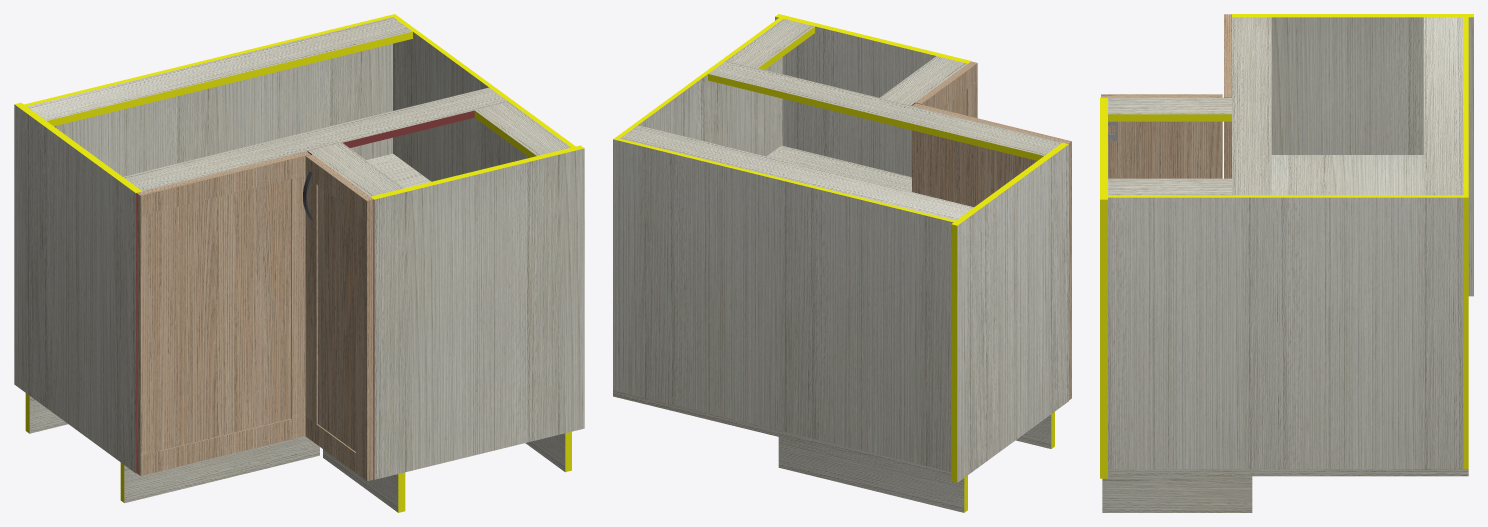
The model's file is ESQUINERO.obj.
The picture shows the model from 3 angles, left to right: view 1: azimuth 30°, elevation 25°; view 2: azimuth 150°, elevation 25°; view 3: azimuth 270°, elevation 25°; orthographic projection. The views are drawn at different scales.
Visible parts, largest first — view 1: Mesh1 LATERAL_DER_2_1 PanelZX_8_1 Estructura_16_1 ESQUINERO_1_1 , Mesh2 LATERAL_IZQ_2_1 PanelZY_18_1 Estructura_16_1 ESQUINERO_1_1, Mesh27 BBas1_281_1 TAP_CCircular_57_1 PanelZX_81_1 MPCD_BCajon_3, Mesh4 RESPALDO_IZQ_2_1 fondo Estructura_16_1 ESQUINERO_1_1 Model, Mesh43 BBas1_286_1 TAP_CCircular_58_1 PanelZX_7_1 MPCD_BCajon_34, Mesh3 RESPALDO_DER_2_1 fondo2 Estructura_16_1 ESQUINERO_1_1 Mode, Mesh5 REFUERZO_2_2_1 PanelXY_37_1 Estructura_16_1 ESQUINERO_1_1 , Mesh6 REFUERZO_1_2_1 PanelXY_43_1 Estructura_16_1 ESQUINERO_1_1 , Mesh19 Panel_14_1 POLLO_IZQ_1_2_1 Zoclo_10_1 ESQUINERO_1_1 Model, Mesh31 BBas1_283_1 TAP_CCircular_57_1 PanelZX_81_1 MPCD_BCajon_3, Mesh33 BBas1_284_1 TAP_CCircular_57_1 PanelZX_81_1 MPCD_BCajon_3, Mesh29 BBas1_282_1 TAP_CCircular_57_1 PanelZX_81_1 MPCD_BCajon_3 (+11 smaller); view 2: Mesh4 RESPALDO_IZQ_2_1 fondo Estructura_16_1 ESQUINERO_1_1 Model, Mesh2 LATERAL_IZQ_2_1 PanelZY_18_1 Estructura_16_1 ESQUINERO_1_1, Mesh1 LATERAL_DER_2_1 PanelZX_8_1 Estructura_16_1 ESQUINERO_1_1 , Mesh6 REFUERZO_1_2_1 PanelXY_43_1 Estructura_16_1 ESQUINERO_1_1 , Mesh3 RESPALDO_DER_2_1 fondo2 Estructura_16_1 ESQUINERO_1_1 Mode, Mesh27 BBas1_281_1 TAP_CCircular_57_1 PanelZX_81_1 MPCD_BCajon_3, Mesh5 REFUERZO_2_2_1 PanelXY_37_1 Estructura_16_1 ESQUINERO_1_1 , Mesh20 Panel_20_1 POLLO_IZQ_2_2_1 Zoclo_10_1 ESQUINERO_1_1 Model, Mesh10 PanelCE01_7_1 PanelXY_CorteEL_4_1 BASE__1_1 Estructura_16, Mesh8 REFUERZO_4_2_1 PanelXY_41_1 Estructura_16_1 ESQUINERO_1_1 , Mesh13 Entrepa_o ENTREPA_O___1_1 PanelXY_31_1 DIVISORES_3_1 Estr, Mesh7 REFUERZO_3_2_1 PanelXY_44_1 Estructura_16_1 ESQUINERO_1_1  (+3 smaller); view 3: Mesh3 RESPALDO_DER_2_1 fondo2 Estructura_16_1 ESQUINERO_1_1 Mode, Mesh2 LATERAL_IZQ_2_1 PanelZY_18_1 Estructura_16_1 ESQUINERO_1_1, Mesh5 REFUERZO_2_2_1 PanelXY_37_1 Estructura_16_1 ESQUINERO_1_1 , Mesh6 REFUERZO_1_2_1 PanelXY_43_1 Estructura_16_1 ESQUINERO_1_1 , Mesh43 BBas1_286_1 TAP_CCircular_58_1 PanelZX_7_1 MPCD_BCajon_34, Mesh13 Entrepa_o ENTREPA_O___1_1 PanelXY_31_1 DIVISORES_3_1 Estr, Mesh18 Panel_15_1 POLLO_DER_2_2_1 Zoclo_10_1 ESQUINERO_1_1 Model, Mesh7 REFUERZO_3_2_1 PanelXY_44_1 Estructura_16_1 ESQUINERO_1_1 , Mesh1 LATERAL_DER_2_1 PanelZX_8_1 Estructura_16_1 ESQUINERO_1_1 , Mesh4 RESPALDO_IZQ_2_1 fondo Estructura_16_1 ESQUINERO_1_1 Model, Mesh8 REFUERZO_4_2_1 PanelXY_41_1 Estructura_16_1 ESQUINERO_1_1 , Mesh10 PanelCE01_7_1 PanelXY_CorteEL_4_1 BASE__1_1 Estructura_16 (+2 smaller).
Boxes of the visible parts, x1,y1,x2,y2 form: Mesh1 LATERAL_DER_2_1 PanelZX_8_1 Estructura_16_1 ESQUINERO_1_1 : (370,145,584,479); Mesh2 LATERAL_IZQ_2_1 PanelZY_18_1 Estructura_16_1 ESQUINERO_1_1: (14,102,142,473); Mesh27 BBas1_281_1 TAP_CCircular_57_1 PanelZX_81_1 MPCD_BCajon_3: (136,151,309,475); Mesh4 RESPALDO_IZQ_2_1 fondo Estructura_16_1 ESQUINERO_1_1 Model: (24,14,396,176); Mesh43 BBas1_286_1 TAP_CCircular_58_1 PanelZX_7_1 MPCD_BCajon_34: (307,154,373,480); Mesh3 RESPALDO_DER_2_1 fondo2 Estructura_16_1 ESQUINERO_1_1 Mode: (393,16,576,181); Mesh5 REFUERZO_2_2_1 PanelXY_37_1 Estructura_16_1 ESQUINERO_1_1 : (27,17,412,126); Mesh6 REFUERZO_1_2_1 PanelXY_43_1 Estructura_16_1 ESQUINERO_1_1 : (123,87,508,191); Mesh19 Panel_14_1 POLLO_IZQ_1_2_1 Zoclo_10_1 ESQUINERO_1_1 Model: (120,436,319,503); Mesh31 BBas1_283_1 TAP_CCircular_57_1 PanelZX_81_1 MPCD_BCajon_3: (140,211,159,455); Mesh33 BBas1_284_1 TAP_CCircular_57_1 PanelZX_81_1 MPCD_BCajon_3: (291,175,305,418); Mesh29 BBas1_282_1 TAP_CCircular_57_1 PanelZX_81_1 MPCD_BCajon_3: (140,154,310,215); Mesh4 RESPALDO_IZQ_2_1 fondo Estructura_16_1 ESQUINERO_1_1 Model: (613,137,957,472); Mesh2 LATERAL_IZQ_2_1 PanelZY_18_1 Estructura_16_1 ESQUINERO_1_1: (951,142,1068,482); Mesh1 LATERAL_DER_2_1 PanelZX_8_1 Estructura_16_1 ESQUINERO_1_1 : (775,14,971,177); Mesh6 REFUERZO_1_2_1 PanelXY_43_1 Estructura_16_1 ESQUINERO_1_1 : (708,60,1061,160); Mesh3 RESPALDO_DER_2_1 fondo2 Estructura_16_1 ESQUINERO_1_1 Mode: (616,17,783,156); Mesh27 BBas1_281_1 TAP_CCircular_57_1 PanelZX_81_1 MPCD_BCajon_3: (912,103,1071,400); Mesh5 REFUERZO_2_2_1 PanelXY_37_1 Estructura_16_1 ESQUINERO_1_1 : (620,125,973,220); Mesh20 Panel_20_1 POLLO_IZQ_2_2_1 Zoclo_10_1 ESQUINERO_1_1 Model: (778,437,967,512); Mesh10 PanelCE01_7_1 PanelXY_CorteEL_4_1 BASE__1_1 Estructura_16: (613,390,951,478); Mesh8 REFUERZO_4_2_1 PanelXY_41_1 Estructura_16_1 ESQUINERO_1_1 : (726,18,814,69); Mesh13 Entrepa_o ENTREPA_O___1_1 PanelXY_31_1 DIVISORES_3_1 Estr: (766,145,911,191); Mesh7 REFUERZO_3_2_1 PanelXY_44_1 Estructura_16_1 ESQUINERO_1_1 : (880,56,967,105); Mesh3 RESPALDO_DER_2_1 fondo2 Estructura_16_1 ESQUINERO_1_1 Mode: (1108,195,1463,469); Mesh2 LATERAL_IZQ_2_1 PanelZY_18_1 Estructura_16_1 ESQUINERO_1_1: (1232,14,1473,296); Mesh5 REFUERZO_2_2_1 PanelXY_37_1 Estructura_16_1 ESQUINERO_1_1 : (1423,17,1463,195); Mesh6 REFUERZO_1_2_1 PanelXY_43_1 Estructura_16_1 ESQUINERO_1_1 : (1232,17,1271,195); Mesh43 BBas1_286_1 TAP_CCircular_58_1 PanelZX_7_1 MPCD_BCajon_34: (1101,94,1222,178); Mesh13 Entrepa_o ENTREPA_O___1_1 PanelXY_31_1 DIVISORES_3_1 Estr: (1271,155,1423,195); Mesh18 Panel_15_1 POLLO_DER_2_2_1 Zoclo_10_1 ESQUINERO_1_1 Model: (1102,476,1252,512); Mesh7 REFUERZO_3_2_1 PanelXY_44_1 Estructura_16_1 ESQUINERO_1_1 : (1108,97,1231,121); Mesh1 LATERAL_DER_2_1 PanelZX_8_1 Estructura_16_1 ESQUINERO_1_1 : (1100,97,1107,478); Mesh4 RESPALDO_IZQ_2_1 fondo Estructura_16_1 ESQUINERO_1_1 Model: (1463,16,1468,469); Mesh8 REFUERZO_4_2_1 PanelXY_41_1 Estructura_16_1 ESQUINERO_1_1 : (1108,178,1231,195); Mesh10 PanelCE01_7_1 PanelXY_CorteEL_4_1 BASE__1_1 Estructura_16: (1232,469,1468,476).
Bounding box in the file's own units: 1000 × 800 × 850.
6 materials, 2 textured.
